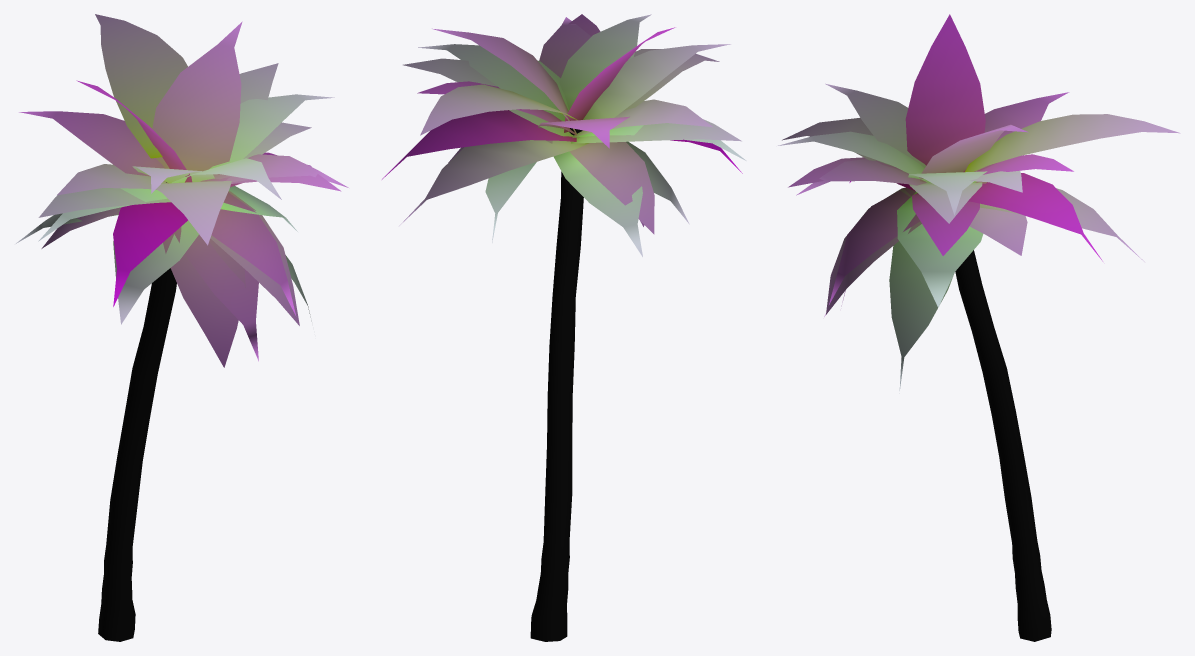
The model's file is tree_palm_b_lod1.glb.
The picture shows the model from 3 angles, left to right: view 1: azimuth 30°, elevation 25°; view 2: azimuth 150°, elevation 25°; view 3: azimuth 270°, elevation 25°; orthographic projection. The views are drawn at different scales.
Parts seen in each view (by area): view 1: tree_palm_b_lod1; view 2: tree_palm_b_lod1; view 3: tree_palm_b_lod1.
Boxes of the visible parts, x1,y1,x2,y2 form: tree_palm_b_lod1: (16,14,348,641); tree_palm_b_lod1: (382,14,746,641); tree_palm_b_lod1: (778,14,1180,641).
Size of the model in its own units: 6.87 by 12.58 by 7.95.
